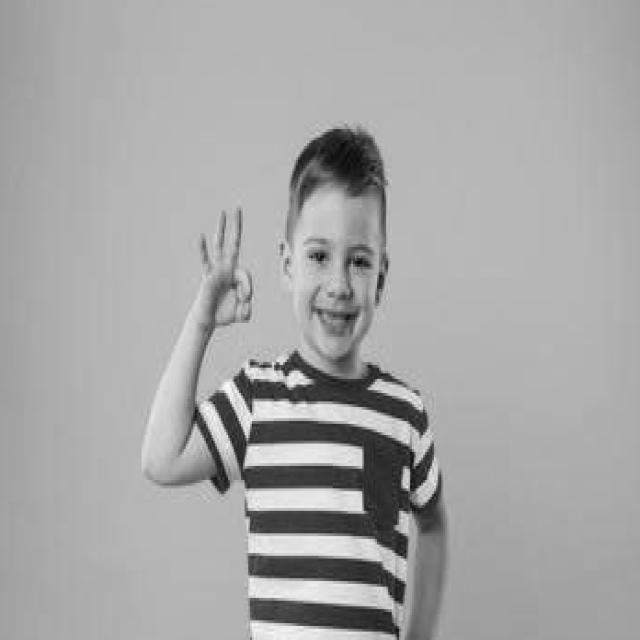perfect: (191, 201, 258, 338)
